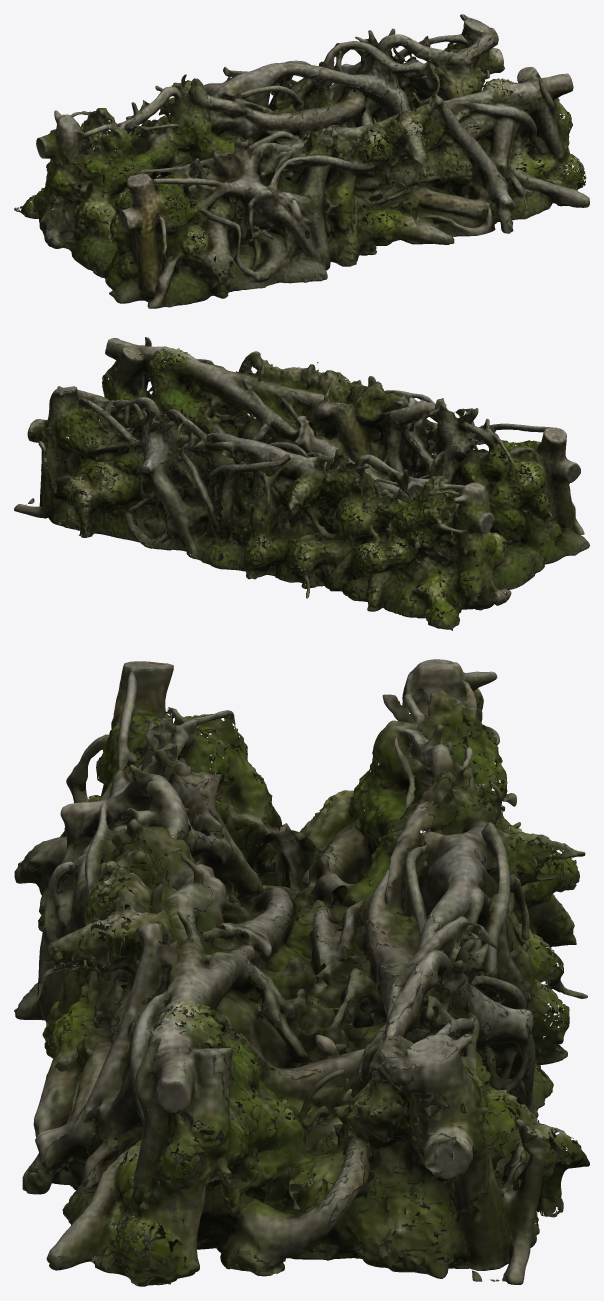
Rendered from muddy_bank_back_wall.raw.glb.
The picture shows the model from 3 angles, top to bottom: view 1: azimuth 30°, elevation 25°; view 2: azimuth 150°, elevation 25°; view 3: azimuth 270°, elevation 25°; orthographic projection. The views are drawn at different scales.
Visible parts, largest first — view 1: world; view 2: world; view 3: world.
Boxes of the visible parts, <box> form: world: <box>14,14,589,308</box>; world: <box>14,337,589,630</box>; world: <box>14,659,589,1286</box>.
Bounding box in the file's own units: 0.998 × 0.2481 × 0.5567.
1 material, 1 textured.
